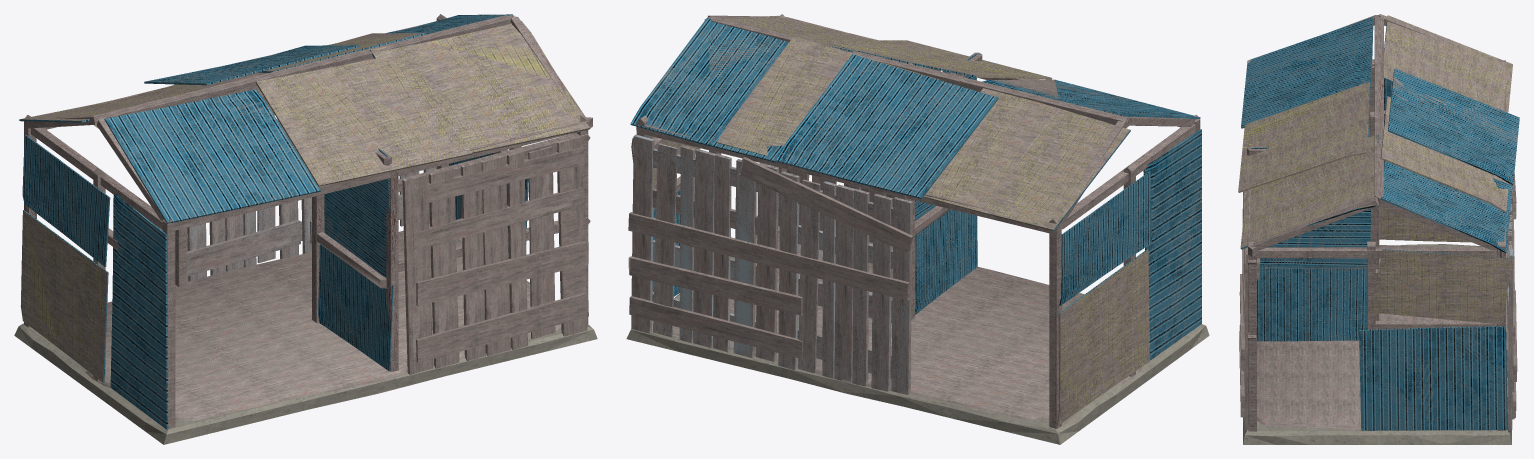
The model's file is Shed 1.fbx.
3 views of the same model, side by side, from view 1: azimuth 30°, elevation 25°; view 2: azimuth 150°, elevation 25°; view 3: azimuth 270°, elevation 25° (orthographic). The views are drawn at different scales.
Visible parts, largest first — view 1: Group1; view 2: Group1; view 3: Group1.
Boxes of the visible parts, bbox=[...] form: Group1: bbox=[14, 14, 597, 444]; Group1: bbox=[626, 14, 1209, 444]; Group1: bbox=[1238, 14, 1519, 444].
Size of the model in its own units: 695 by 422 by 432.
